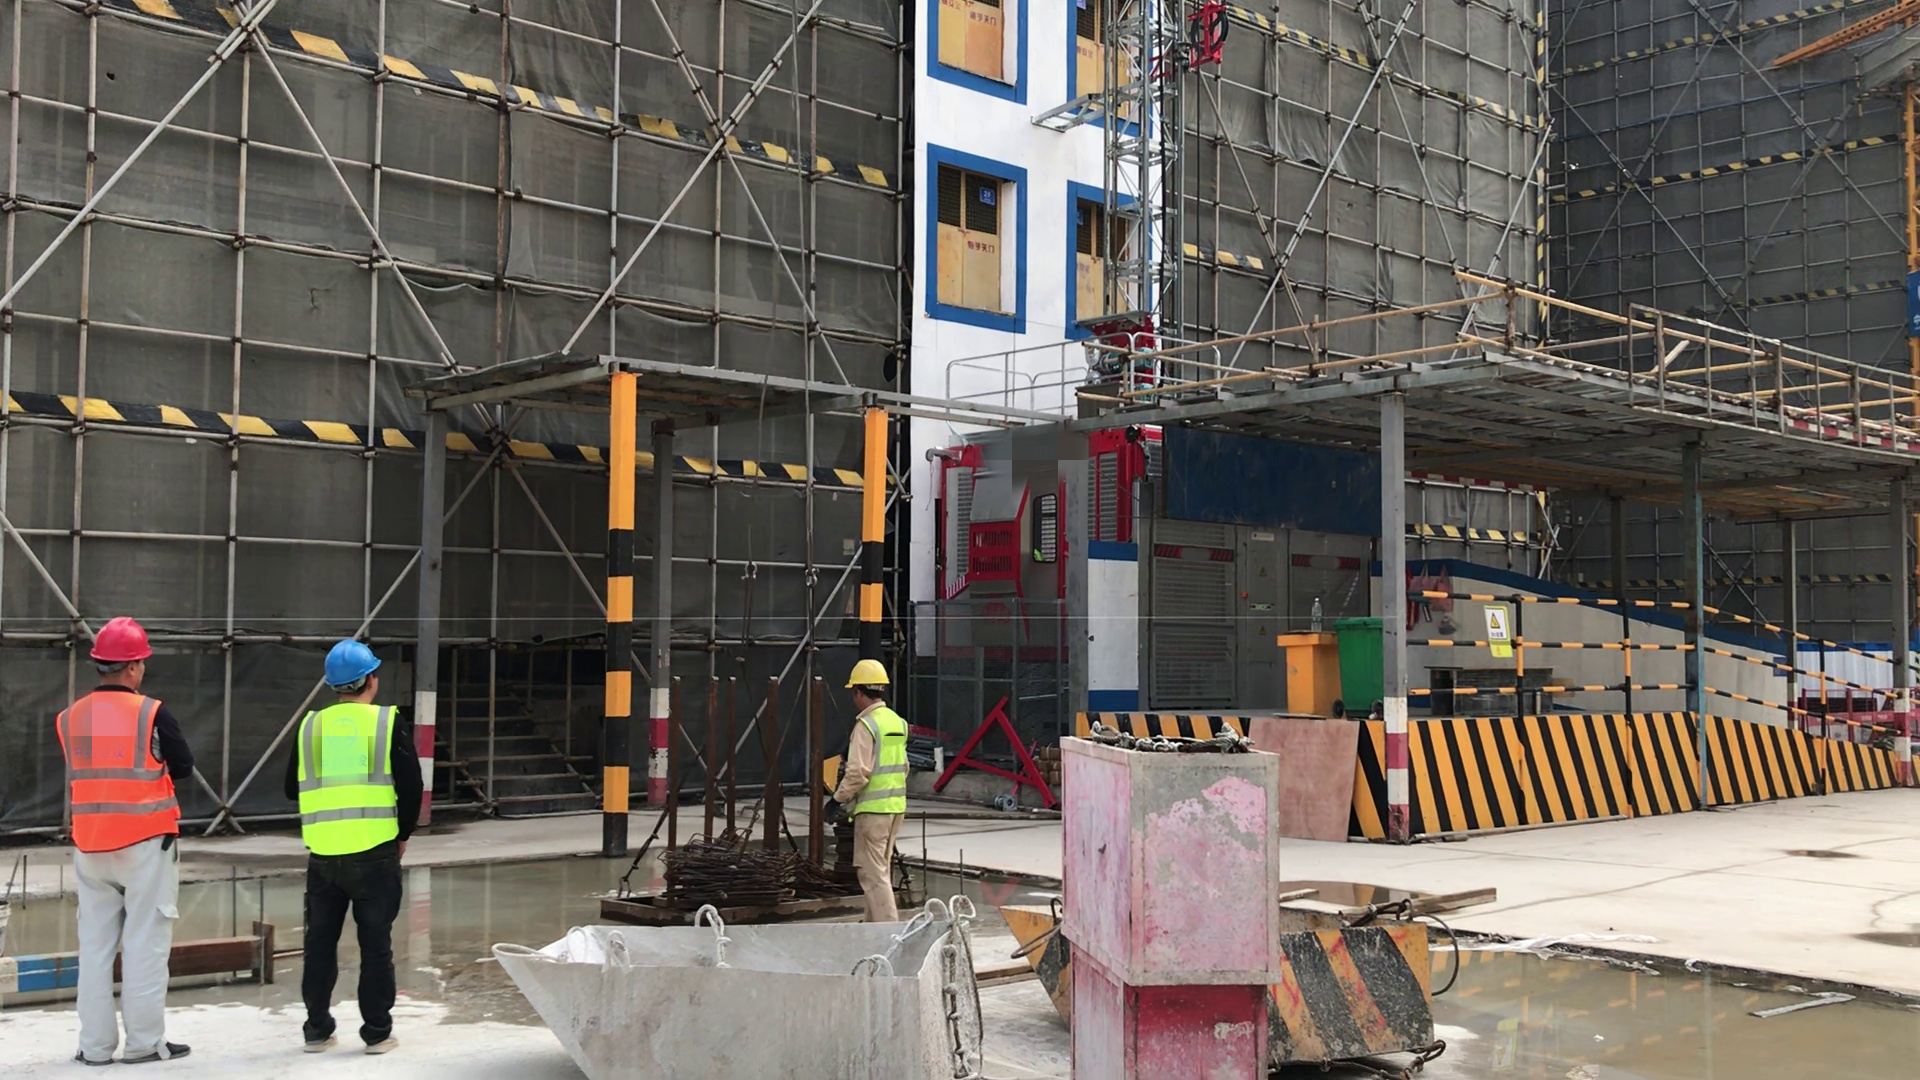fence: (1382, 554, 1899, 767)
helmet: (90, 614, 157, 669), (320, 635, 384, 691), (848, 652, 892, 693)
hopper: (475, 900, 991, 1080), (1015, 882, 1459, 1074)
person: (57, 613, 203, 1077), (277, 635, 427, 1064), (826, 654, 917, 922)
slogan: (1474, 593, 1535, 677)
vest: (50, 689, 186, 863), (293, 698, 406, 872), (846, 704, 911, 827)
